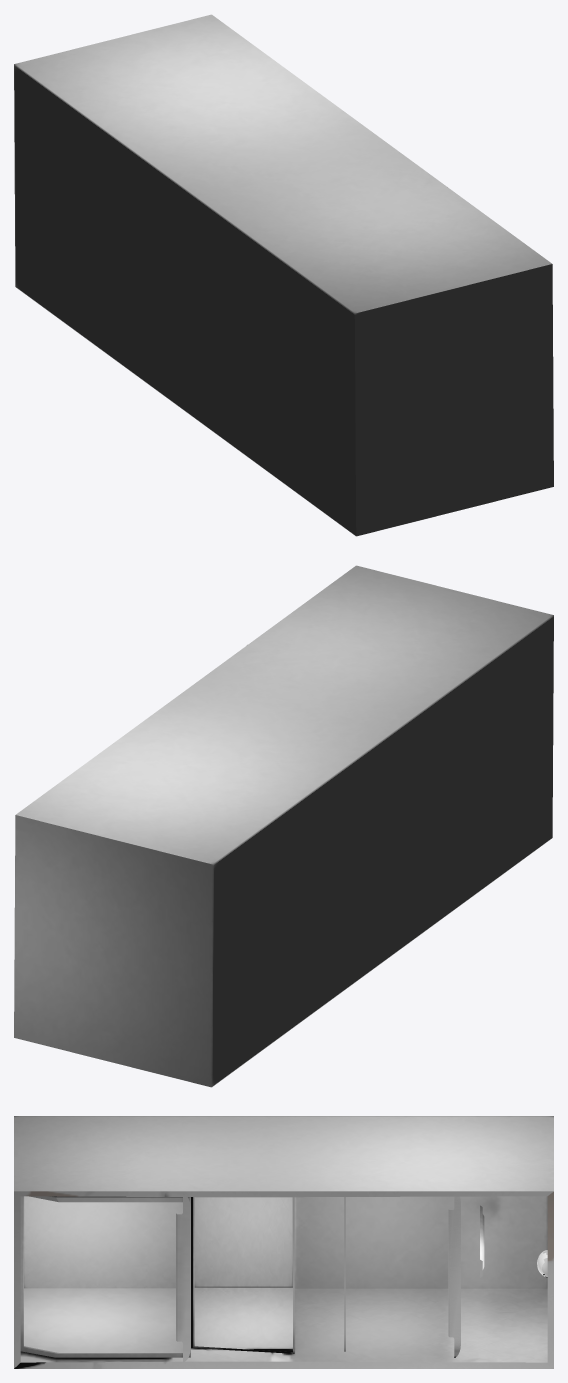
The model's file is body_brighter1.glb.
The picture shows the model from 3 angles, top to bottom: view 1: azimuth 30°, elevation 25°; view 2: azimuth 150°, elevation 25°; view 3: azimuth 270°, elevation 25°; orthographic projection. The views are drawn at different scales.
Visible parts, largest first — view 1: frl_apartment_refrigerator; view 2: frl_apartment_refrigerator; view 3: frl_apartment_refrigerator.
Part boxes in pixels (box(x1,y1,x2,y2)): frl_apartment_refrigerator: box(14, 14, 553, 536); frl_apartment_refrigerator: box(14, 565, 553, 1087); frl_apartment_refrigerator: box(14, 1116, 553, 1368).
Size of the model in its own units: 0.6497 by 0.6973 by 1.92.
Materials: 2 (2 with a texture image).
